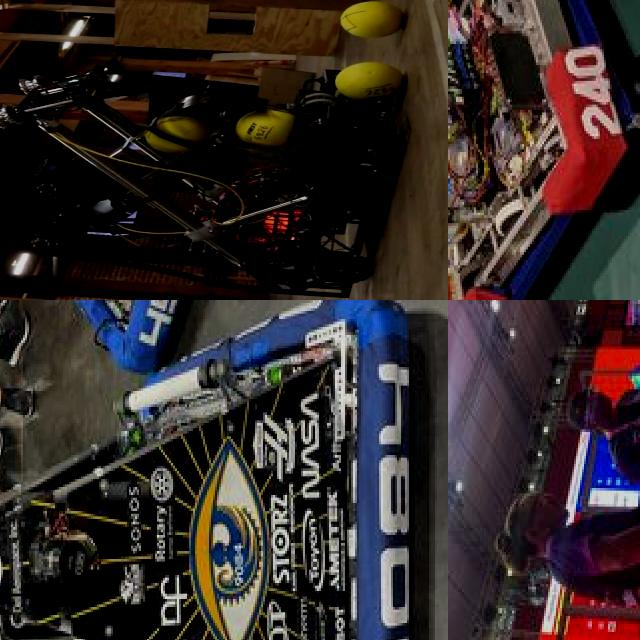FRC-Robots: (0, 300, 435, 640), (0, 29, 415, 300), (448, 0, 640, 300), (7, 300, 236, 365)
